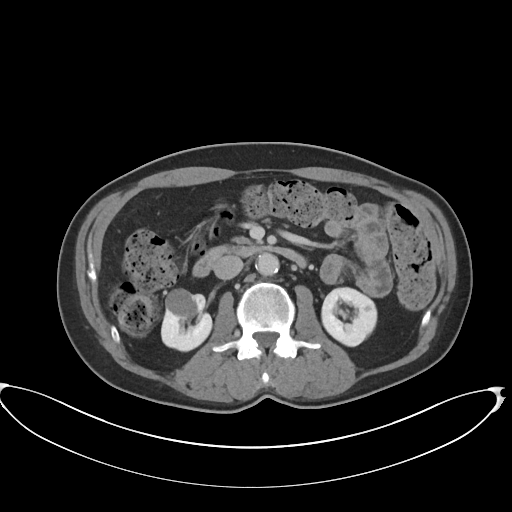Lesion: (160, 287, 201, 323)
